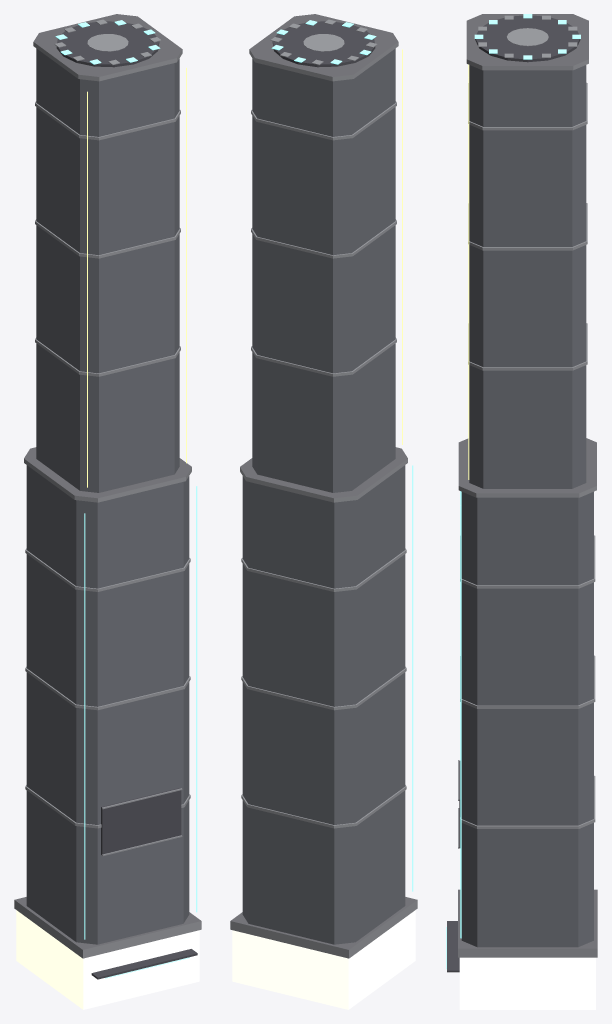
Rendered from s14_heli.glb.
3 renders of one model, left to right at view 1: azimuth 30°, elevation 25°; view 2: azimuth 150°, elevation 25°; view 3: azimuth 270°, elevation 25°, orthographic.
Visible parts, largest first — view 1: s14_heli; view 2: s14_heli; view 3: s14_heli.
Boxes of the visible parts, left/top/right/bottom form: s14_heli: left=14, top=14, right=201, bottom=1009; s14_heli: left=230, top=14, right=417, bottom=1009; s14_heli: left=446, top=14, right=597, bottom=1009.
Size of the model in its own units: 14.3 by 107 by 15.49.
